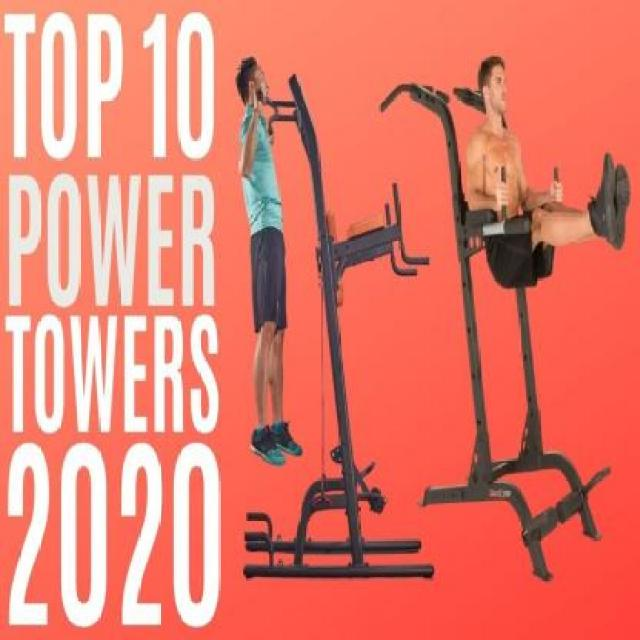chinning dipping: (235, 57, 437, 585), (420, 82, 631, 580)
